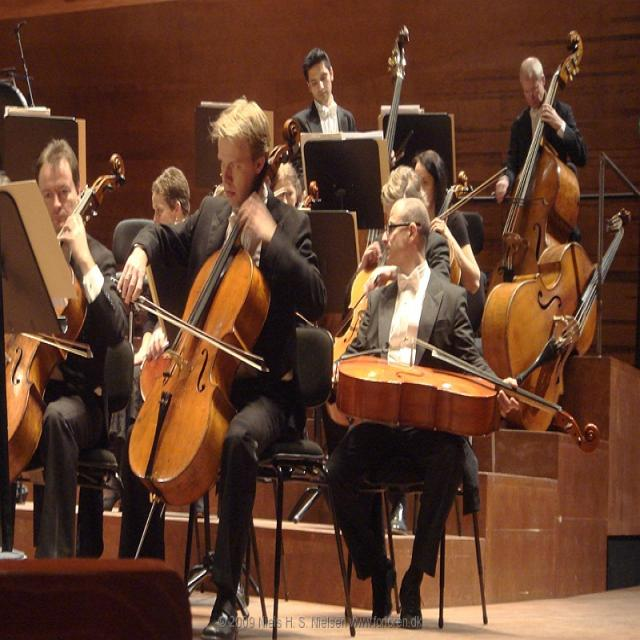cello: (128, 116, 302, 509), (5, 150, 125, 482), (336, 333, 600, 454)
